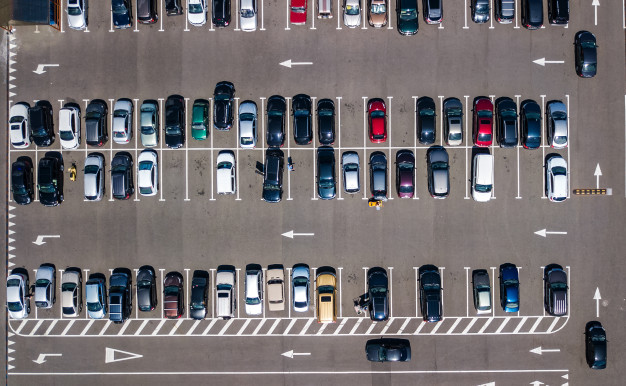car: (358, 266, 396, 323), (424, 144, 453, 204), (254, 147, 285, 203), (417, 264, 445, 325), (79, 151, 110, 206), (107, 147, 135, 206), (37, 152, 66, 208), (540, 264, 570, 318), (362, 338, 417, 367), (468, 148, 495, 206), (311, 143, 337, 202), (105, 269, 132, 325), (496, 259, 523, 314), (134, 97, 162, 150), (162, 91, 187, 150), (583, 320, 612, 370), (2, 270, 30, 321), (314, 270, 339, 326), (413, 94, 439, 147), (470, 95, 496, 148), (161, 269, 186, 323), (287, 264, 314, 314), (544, 153, 570, 204), (211, 80, 236, 133), (545, 98, 570, 151), (394, 148, 419, 201), (441, 94, 465, 149), (362, 97, 390, 144), (82, 98, 108, 148), (519, 99, 544, 151), (58, 267, 83, 319), (496, 93, 518, 152), (109, 98, 136, 146), (291, 90, 314, 146), (11, 156, 35, 209), (213, 267, 236, 322), (574, 29, 599, 79), (264, 93, 287, 147), (132, 265, 159, 311), (315, 97, 340, 146), (7, 101, 31, 152), (30, 98, 54, 149), (241, 267, 265, 318), (264, 263, 288, 313), (337, 149, 362, 196), (470, 268, 495, 315), (368, 151, 390, 204), (188, 269, 209, 323), (58, 102, 80, 153), (236, 100, 258, 151), (136, 149, 158, 198), (214, 148, 236, 196), (34, 263, 56, 311), (393, 1, 420, 39), (235, 1, 263, 37), (84, 276, 106, 320), (190, 97, 210, 141), (342, 1, 367, 34), (64, 1, 90, 32), (521, 1, 545, 33), (110, 1, 134, 32), (547, 1, 571, 29), (367, 1, 388, 32), (470, 1, 491, 32), (185, 1, 208, 29), (137, 1, 159, 30), (424, 1, 446, 30), (211, 1, 231, 31), (494, 1, 516, 27), (289, 1, 309, 29), (313, 1, 335, 21), (167, 1, 183, 20)
